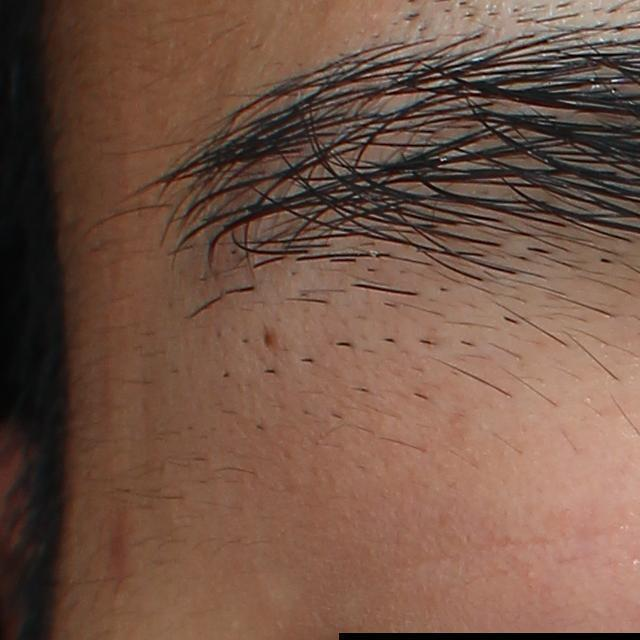nevus: (261, 325, 282, 350)
